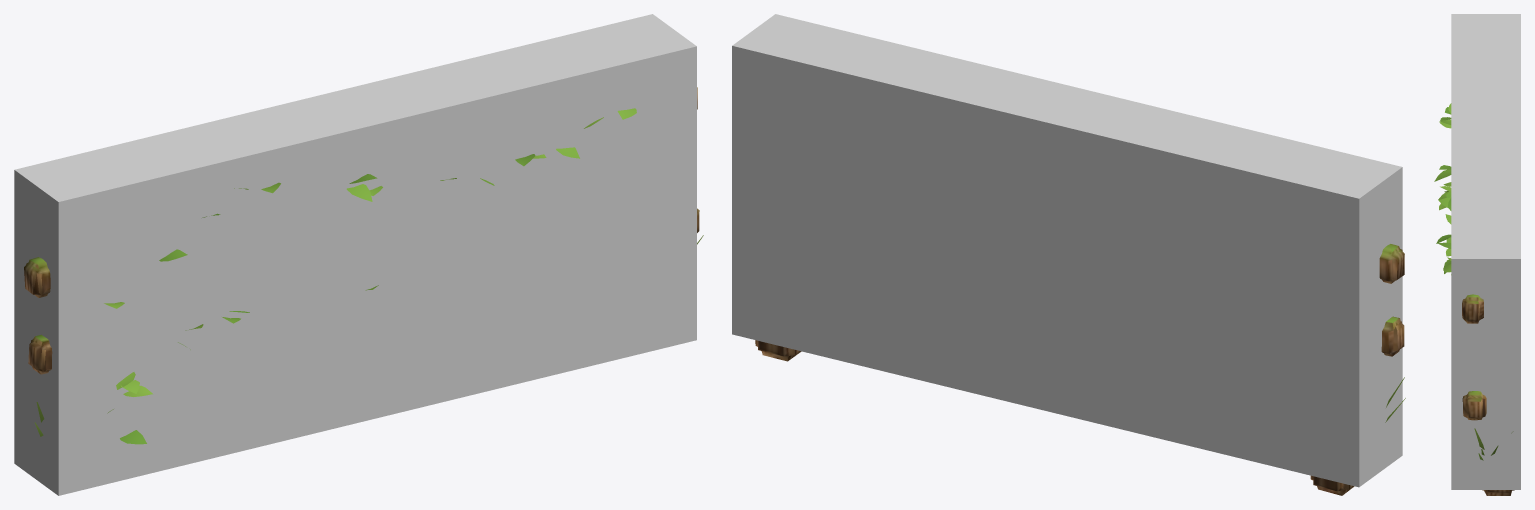
Rendered from fence.glb.
The picture shows the model from 3 angles, left to right: view 1: azimuth 30°, elevation 25°; view 2: azimuth 150°, elevation 25°; view 3: azimuth 270°, elevation 25°; orthographic projection. The views are drawn at different scales.
Visible parts, largest first — view 1: COL_fence, SM_FenceWood; view 2: COL_fence, SM_FenceWood; view 3: COL_fence, SM_FenceWood, Tuft4.
Boxes of the visible parts, x1,y1,x2,y2 form: COL_fence: (14,14,696,495); SM_FenceWood: (24,87,699,374); COL_fence: (732,14,1402,487); SM_FenceWood: (755,244,1404,495); COL_fence: (1451,14,1520,489); SM_FenceWood: (1462,294,1514,495); Tuft4: (1474,428,1513,460).
Bounding box in the file's own units: 2.64 × 1.18 × 0.375.
2 materials, 1 textured.
